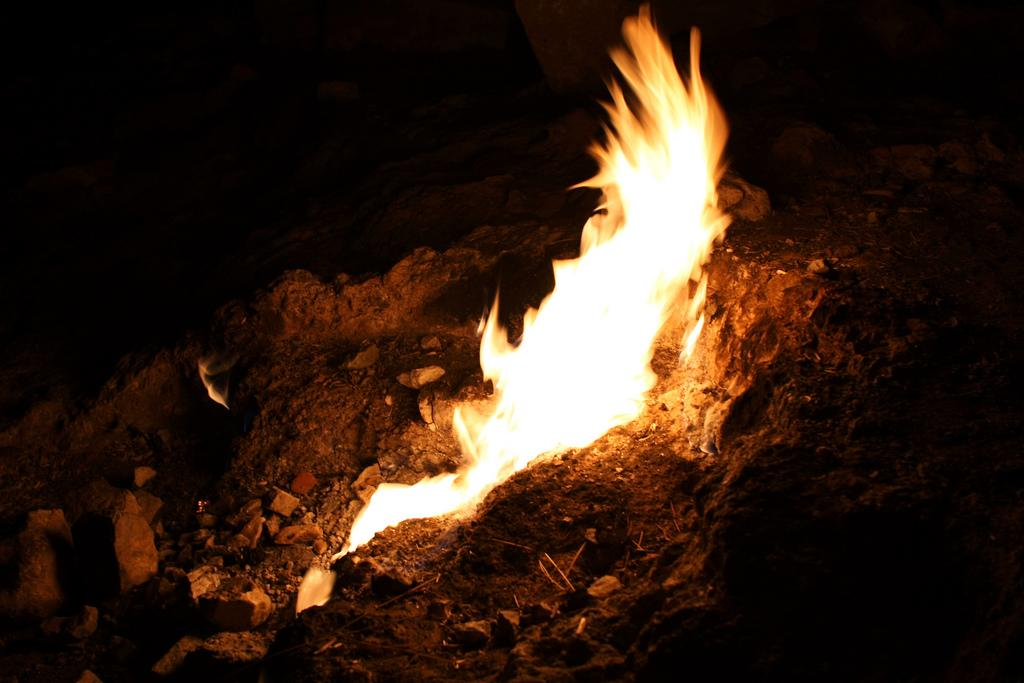fire: (632, 138, 717, 255), (557, 265, 643, 375), (510, 373, 568, 450)
